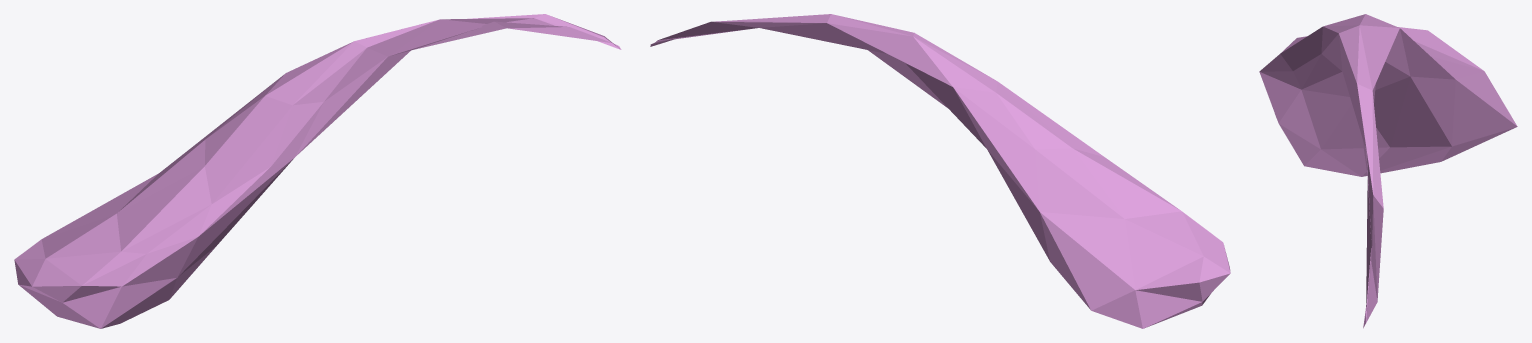
The picture shows the model from 3 angles, left to right: view 1: azimuth 30°, elevation 25°; view 2: azimuth 150°, elevation 25°; view 3: azimuth 270°, elevation 25°; orthographic projection. The views are drawn at different scales.
Visible parts, largest first — view 1: 599626923.obj; view 2: 599626923.obj; view 3: 599626923.obj.
Boxes of the visible parts, left/top/right/bottom form: 599626923.obj: left=14, top=14, right=621, bottom=328; 599626923.obj: left=650, top=14, right=1230, bottom=328; 599626923.obj: left=1259, top=14, right=1517, bottom=328.
Bounding box in the file's own units: 706 × 244 × 181.
